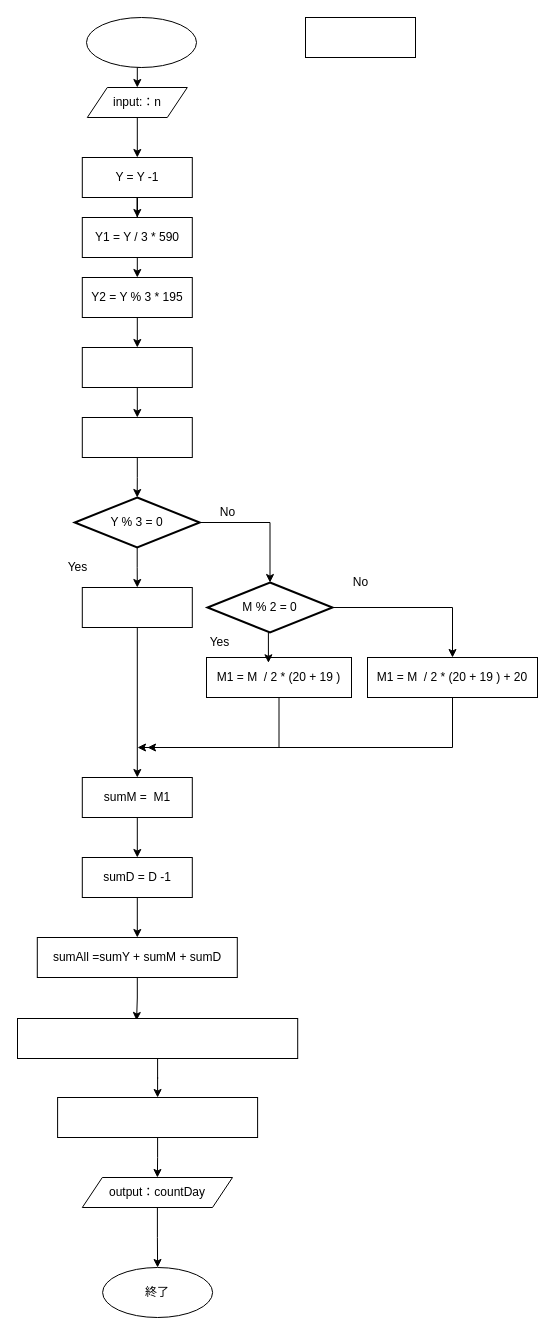
The diagram is 555 pixels wide and 1335 high, and some of its shapes have lost their labels. The shapes that lost their labels are listed below. From the top down, each one's centre as x and y in pixels, then its label:
At [141,42]: "開始".
At [360,37]: "n 回繰り返し 行ごとに処理する".
At [136,367]: "sumY = Y1 + Y2".
At [136,437]: "M = M -1".
At [136,607]: "M1 = M * 20".
At [157,1038]: "premium = (1000 -1) /3 * 590".
At [157,1117]: "countDay = premium - sumAll".
